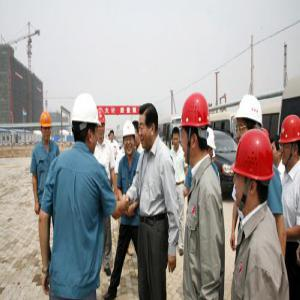none: (139, 102, 159, 151), (271, 136, 282, 167), (172, 126, 181, 148)
red: (232, 128, 275, 212), (181, 94, 210, 166), (280, 114, 300, 171), (97, 106, 107, 144)
white: (72, 93, 99, 155), (235, 94, 264, 143), (123, 120, 137, 159)
yellow: (40, 111, 53, 142)
